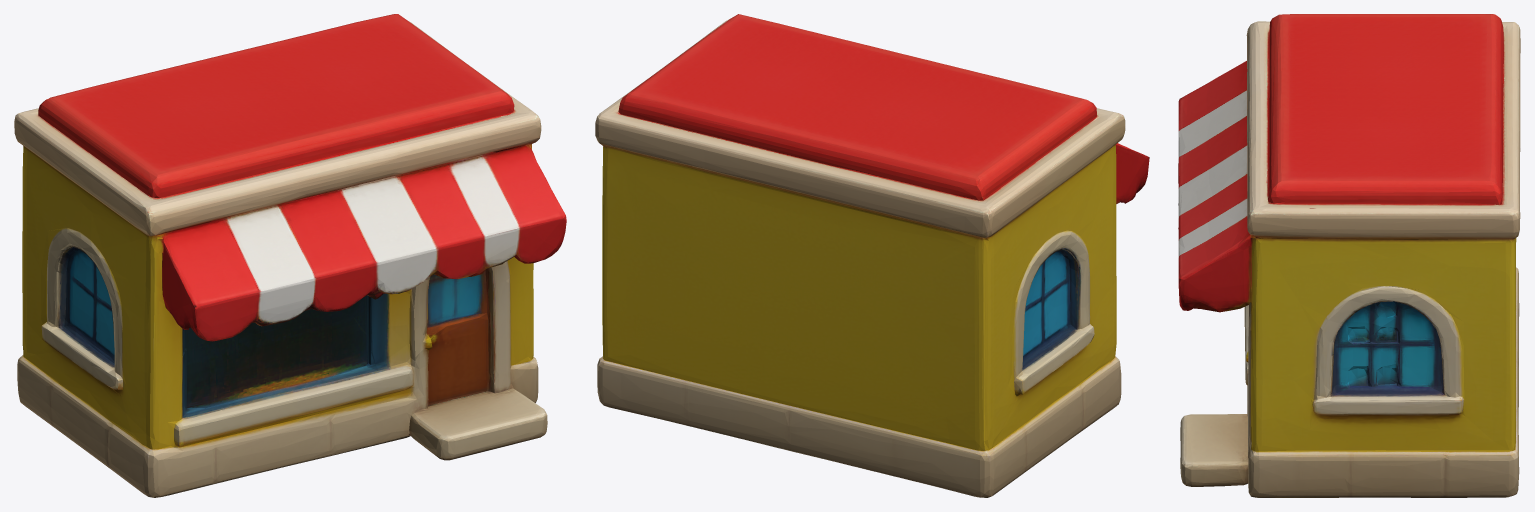
File: pizza_shop.glb
3 views of the same model, side by side, from view 1: azimuth 30°, elevation 25°; view 2: azimuth 150°, elevation 25°; view 3: azimuth 270°, elevation 25° (orthographic).
Visible parts, largest first — view 1: geometry_0; view 2: geometry_0; view 3: geometry_0.
Part boxes in pixels (x1,y1,x2,y2): geometry_0: (14,14,566,497); geometry_0: (595,14,1149,497); geometry_0: (1178,14,1520,497).
Size of the model in its own units: 0.4927 by 0.3674 by 0.3693.
1 material, 1 textured.
